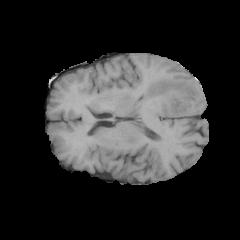glioma: (138, 76, 193, 117)
